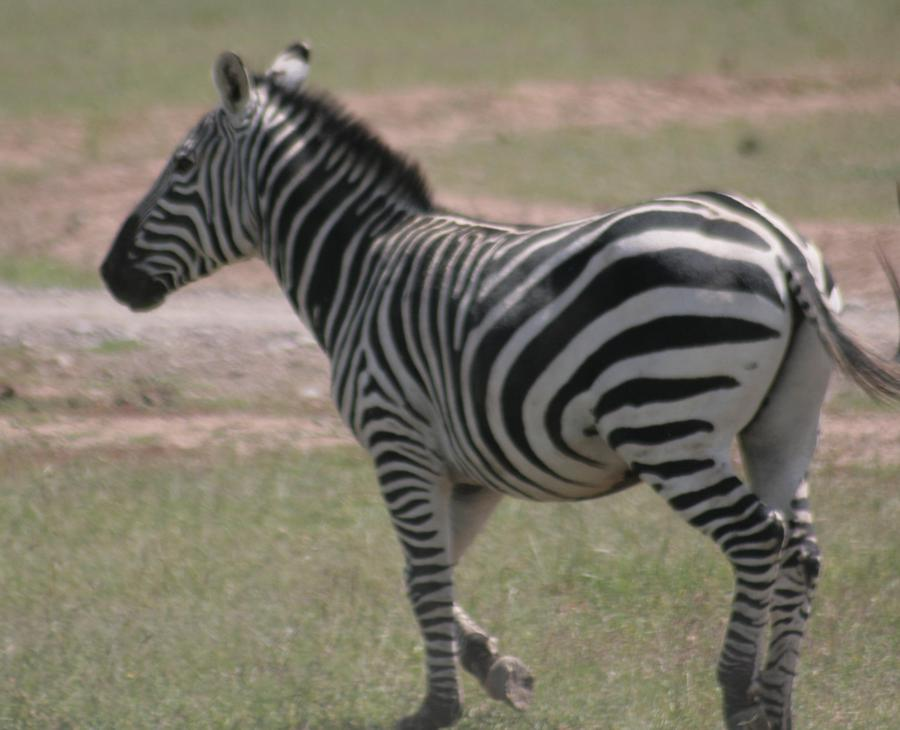zebra_plains: (323, 197, 758, 496)
